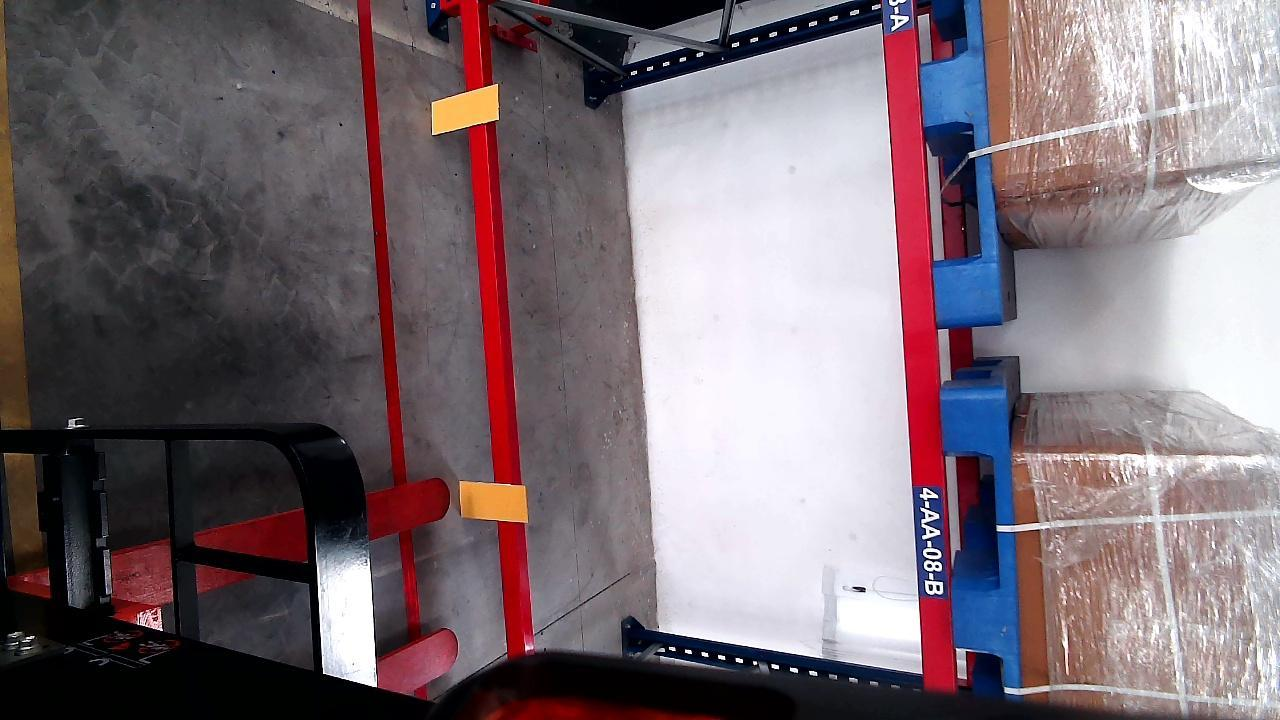red_line: (360, 0, 423, 647)
